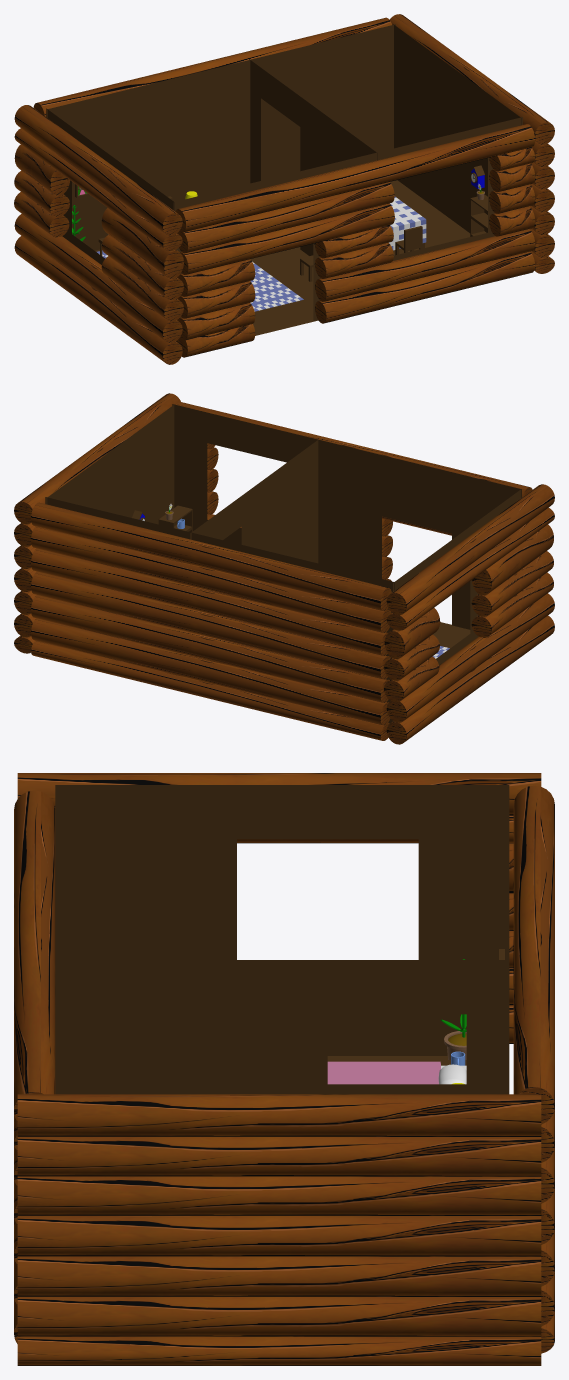
Rendered from Grandma House.fbx.
The picture shows the model from 3 angles, top to bottom: view 1: azimuth 30°, elevation 25°; view 2: azimuth 150°, elevation 25°; view 3: azimuth 270°, elevation 25°; orthographic projection. The views are drawn at different scales.
Parts seen in each view (by area): view 1: pPlane2, pPlane5, pCylinder7, pPlane6, pCylinder2, pPlane1, pCylinder1, pCylinder32, pCylinder9, pCylinder8, pPlane3, pCylinder30 (+30 smaller); view 2: pPlane3, pCylinder16, pCylinder20, pCylinder19, pCylinder18, pCylinder21, pCylinder17, pPlane6, pPlane5, pCylinder22, pCylinder32, pCylinder30 (+14 smaller); view 3: pPlane4, pPlane6, pCylinder23, pCylinder26, pCylinder27, pCylinder28, pCylinder24, pCylinder25, pCylinder29, pCylinder16, pCylinder7, pCylinder32 (+4 smaller).
Boxes of the visible parts, x1,y1,x2,y2 form: pPlane2: [47, 24, 395, 250]; pPlane5: [392, 24, 521, 232]; pCylinder7: [175, 124, 535, 232]; pPlane6: [249, 59, 377, 255]; pCylinder2: [315, 229, 535, 301]; pPlane1: [95, 180, 470, 335]; pCylinder1: [315, 251, 535, 323]; pCylinder32: [14, 105, 182, 235]; pCylinder9: [180, 203, 394, 274]; pCylinder8: [177, 182, 394, 253]; pPlane3: [173, 117, 522, 320]; pCylinder30: [14, 214, 182, 342]; pPlane3: [172, 404, 521, 629]; pCylinder16: [31, 502, 391, 611]; pCylinder20: [31, 595, 389, 702]; pCylinder19: [31, 571, 390, 679]; pCylinder18: [31, 548, 387, 655]; pCylinder21: [31, 618, 390, 725]; pCylinder17: [31, 526, 391, 632]; pPlane6: [190, 440, 318, 563]; pPlane5: [46, 405, 174, 524]; pCylinder22: [31, 640, 389, 740]; pCylinder32: [386, 484, 554, 615]; pCylinder30: [386, 593, 554, 722]; pPlane4: [55, 785, 509, 1055]; pPlane6: [55, 960, 509, 1084]; pCylinder23: [17, 1094, 541, 1136]; pCylinder26: [17, 1216, 541, 1256]; pCylinder27: [17, 1256, 541, 1296]; pCylinder28: [17, 1297, 541, 1336]; pCylinder24: [17, 1137, 541, 1176]; pCylinder25: [17, 1176, 541, 1215]; pCylinder29: [17, 1336, 541, 1365]; pCylinder16: [513, 785, 554, 1124]; pCylinder7: [14, 790, 55, 1121]; pCylinder32: [17, 773, 541, 815].
Bounding box in the file's own units: 2693 × 1004 × 1817.
